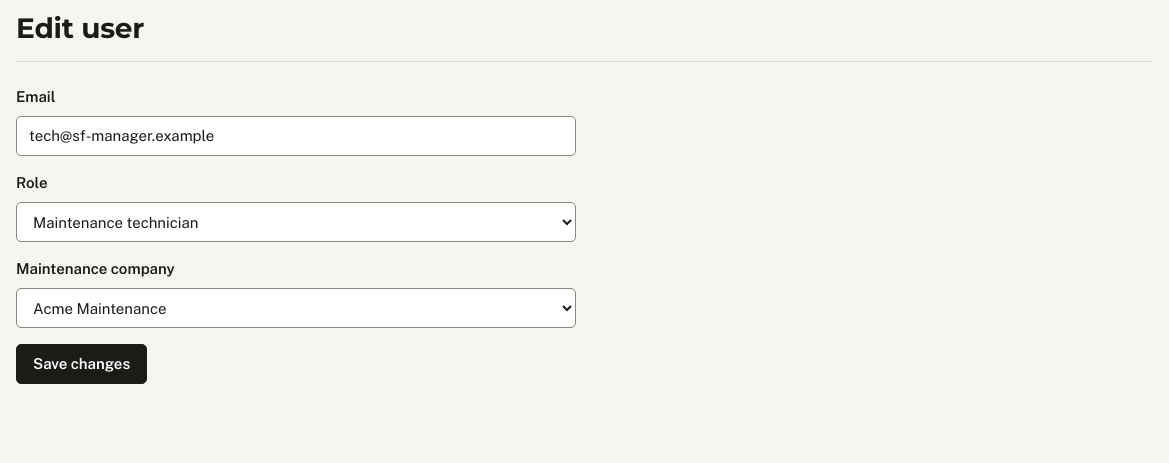
it: UserEditPage › shows a distinct message for a 400 MAINTENANCE_COMPANY_NOT_FOUND response
What coordinates should you click on to do the following:
click the button with test id "user-edit-submit"
I would click on:
 (82, 364)
Its box is [16,344,147,384].
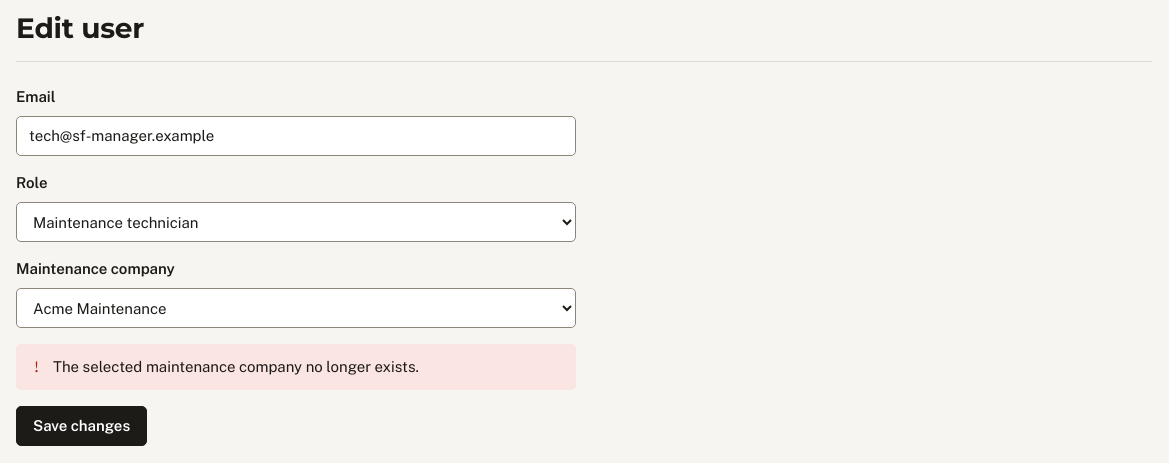
Expected: the message with test id "user-edit-error" shows "The selected maintenance company no longer exists.", [53,358,419,375]
